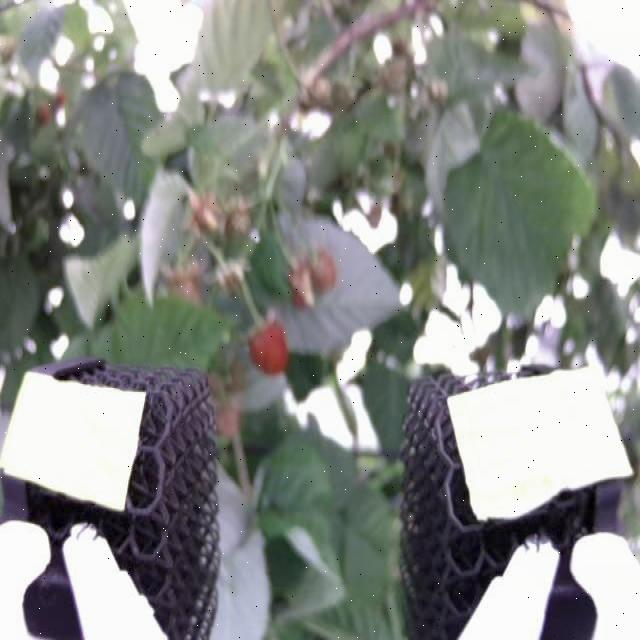Riped berries: (245, 310, 294, 374)
